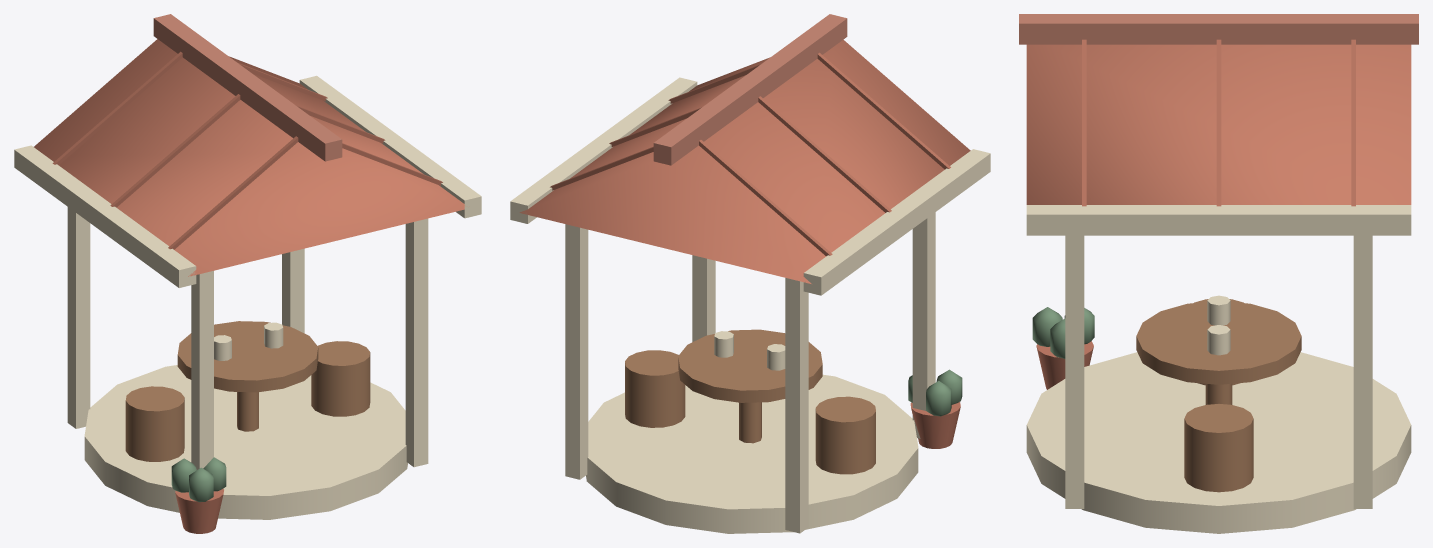
The model's file is tea.glb.
3 renders of one model, left to right at view 1: azimuth 30°, elevation 25°; view 2: azimuth 150°, elevation 25°; view 3: azimuth 270°, elevation 25°, orthographic. The views are drawn at different scales.
Visible parts, largest first — view 1: _MeshInstance3D_142, _MeshInstance3D_137, _MeshInstance3D_143, _MeshInstance3D_153, _MeshInstance3D_144, _MeshInstance3D_141, _MeshInstance3D_138, _MeshInstance3D_139, _MeshInstance3D_156, _MeshInstance3D_157, _MeshInstance3D_148, _MeshInstance3D_140 (+8 smaller); view 2: _MeshInstance3D_142, _MeshInstance3D_137, _MeshInstance3D_143, _MeshInstance3D_153, _MeshInstance3D_144, _MeshInstance3D_140, _MeshInstance3D_138, _MeshInstance3D_156, _MeshInstance3D_139, _MeshInstance3D_157, _MeshInstance3D_148, _MeshInstance3D_141 (+7 smaller); view 3: _MeshInstance3D_142, _MeshInstance3D_137, _MeshInstance3D_143, _MeshInstance3D_148, _MeshInstance3D_153, _MeshInstance3D_157, _MeshInstance3D_140, _MeshInstance3D_141, _MeshInstance3D_158, _MeshInstance3D_150, _MeshInstance3D_149, _MeshInstance3D_151 (+5 smaller).
Part boxes in pixels (left/top/right/bottom): _MeshInstance3D_142: left=34, top=39, right=464, bottom=276; _MeshInstance3D_137: left=84, top=365, right=407, bottom=519; _MeshInstance3D_143: left=153, top=14, right=342, bottom=161; _MeshInstance3D_153: left=177, top=321, right=318, bottom=392; _MeshInstance3D_144: left=14, top=145, right=196, bottom=287; _MeshInstance3D_141: left=405, top=218, right=428, bottom=467; _MeshInstance3D_138: left=67, top=207, right=90, bottom=428; _MeshInstance3D_139: left=191, top=271, right=213, bottom=469; _MeshInstance3D_156: left=125, top=386, right=184, bottom=461; _MeshInstance3D_157: left=311, top=341, right=370, bottom=416; _MeshInstance3D_148: left=299, top=75, right=481, bottom=218; _MeshInstance3D_140: left=282, top=248, right=304, bottom=333; _MeshInstance3D_142: left=519, top=39, right=970, bottom=283; _MeshInstance3D_137: left=586, top=374, right=918, bottom=533; _MeshInstance3D_143: left=653, top=14, right=847, bottom=165; _MeshInstance3D_153: left=678, top=329, right=822, bottom=402; _MeshInstance3D_144: left=803, top=149, right=990, bottom=295; _MeshInstance3D_140: left=565, top=224, right=588, bottom=479; _MeshInstance3D_138: left=785, top=278, right=808, bottom=533; _MeshInstance3D_156: left=815, top=396, right=875, bottom=474; _MeshInstance3D_139: left=912, top=212, right=935, bottom=438; _MeshInstance3D_157: left=625, top=350, right=685, bottom=427; _MeshInstance3D_148: left=510, top=77, right=697, bottom=223; _MeshInstance3D_141: left=692, top=255, right=715, bottom=341; _MeshInstance3D_142: left=1026, top=44, right=1411, bottom=204; _MeshInstance3D_137: left=1026, top=352, right=1411, bottom=533; _MeshInstance3D_143: left=1019, top=14, right=1418, bottom=44; _MeshInstance3D_148: left=1026, top=205, right=1411, bottom=235; _MeshInstance3D_153: left=1136, top=302, right=1301, bottom=384; _MeshInstance3D_157: left=1184, top=404, right=1253, bottom=492; _MeshInstance3D_140: left=1353, top=235, right=1372, bottom=508; _MeshInstance3D_141: left=1065, top=235, right=1084, bottom=508; _MeshInstance3D_158: left=1036, top=341, right=1093, bottom=389; _MeshInstance3D_150: left=1216, top=39, right=1221, bottom=206; _MeshInstance3D_149: left=1351, top=39, right=1355, bottom=206; _MeshInstance3D_151: left=1082, top=39, right=1086, bottom=206.
Size of the model in its own units: 2.12 by 2.49 by 2.08.
